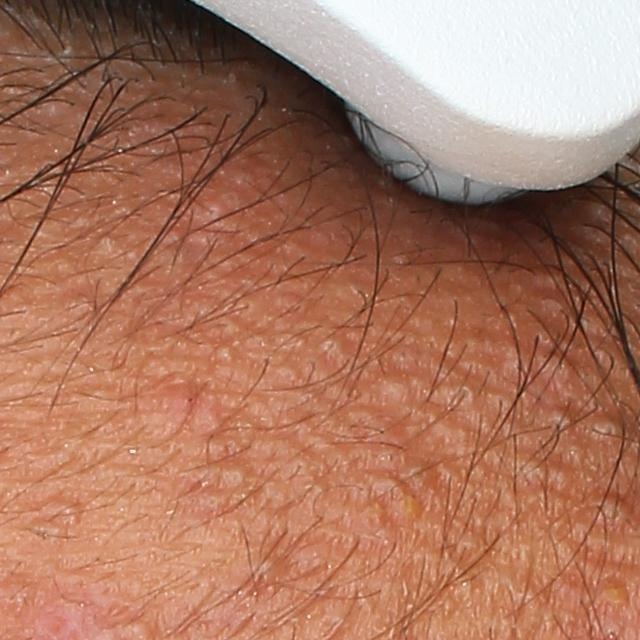comedo: (150, 386, 195, 437), (512, 455, 563, 491), (193, 195, 233, 239), (212, 461, 252, 498), (536, 349, 573, 389), (589, 492, 626, 531), (372, 373, 411, 407), (38, 498, 82, 528), (255, 547, 280, 589), (209, 341, 239, 371), (318, 327, 346, 358), (92, 230, 122, 257), (200, 406, 222, 440)
